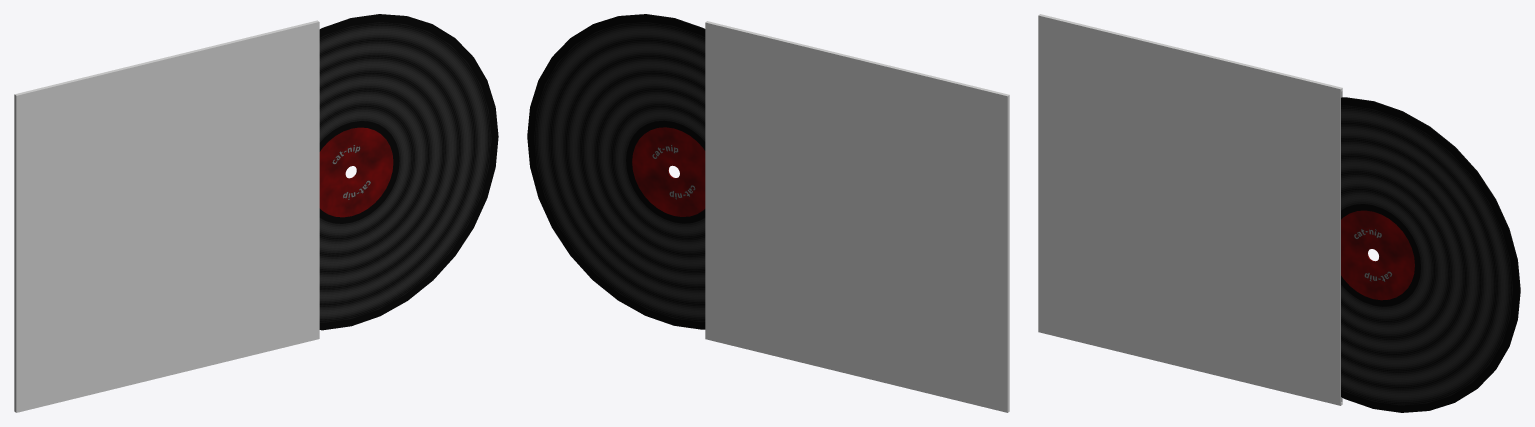
File: Vinyl.glb
3 renders of one model, left to right at view 1: azimuth 30°, elevation 25°; view 2: azimuth 150°, elevation 25°; view 3: azimuth 330°, elevation 25°, orthographic.
Parts seen in each view (by area): view 1: Plane, Circle, Circle.001; view 2: Plane, Circle, Circle.001; view 3: Plane, Circle, Circle.001.
Boxes of the visible parts, x1,y1,x2,y2 form: Plane: (14, 20, 319, 412); Circle: (319, 14, 498, 330); Circle.001: (319, 127, 393, 217); Plane: (705, 21, 1009, 412); Circle: (527, 14, 705, 329); Circle.001: (632, 127, 705, 216); Plane: (1038, 14, 1342, 405); Circle: (1341, 97, 1520, 412); Circle.001: (1341, 210, 1414, 300).
Size of the model in its own units: 3.28 by 2.06 by 0.024.
4 materials, 2 textured.
